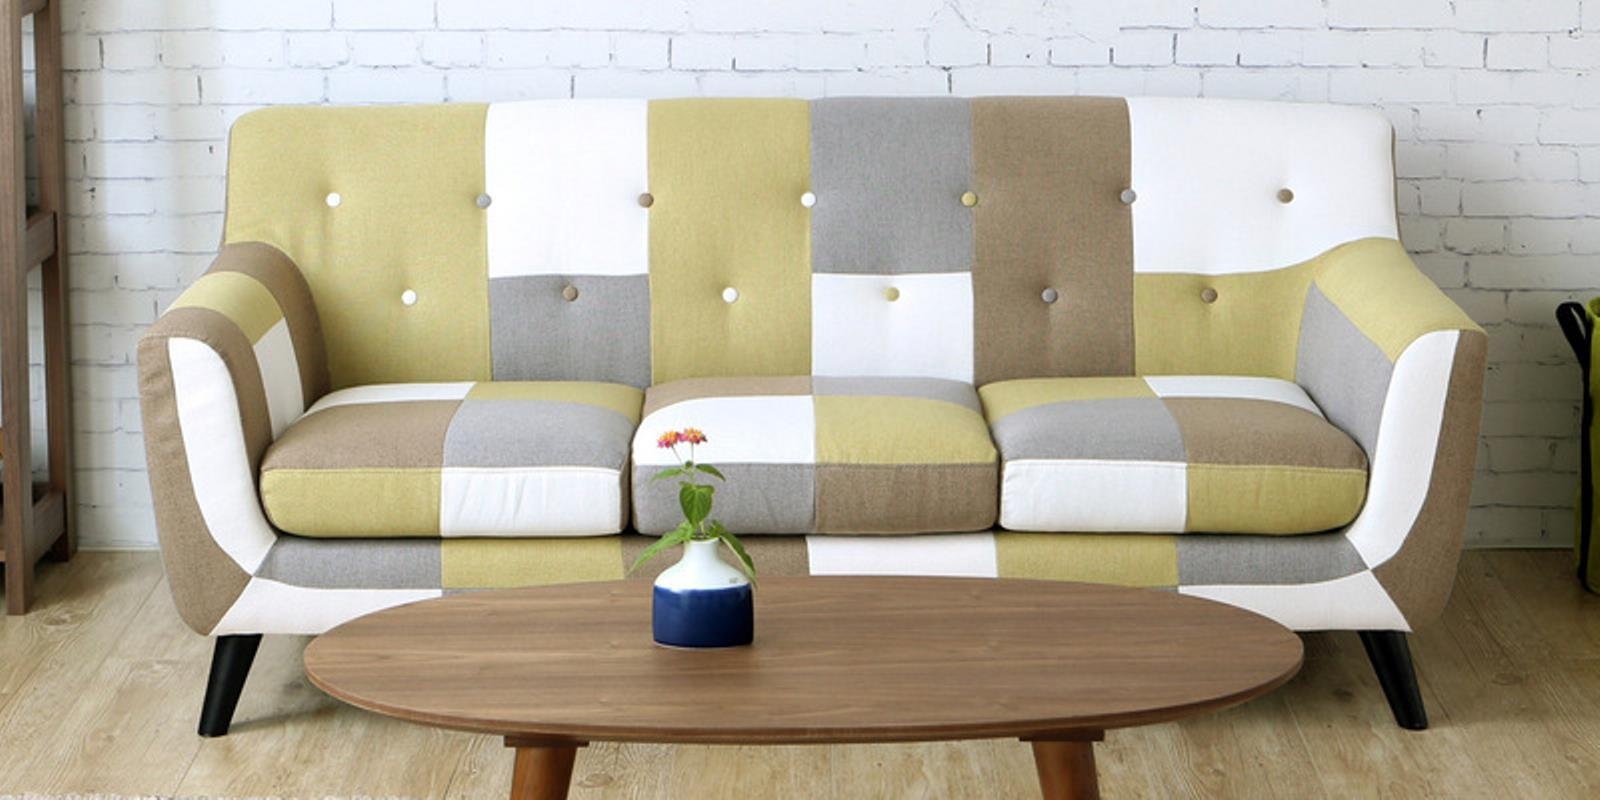Frida Three Seater Sofa in Yellow Multi Colour by CasaCraft: (115, 97, 1478, 745)
